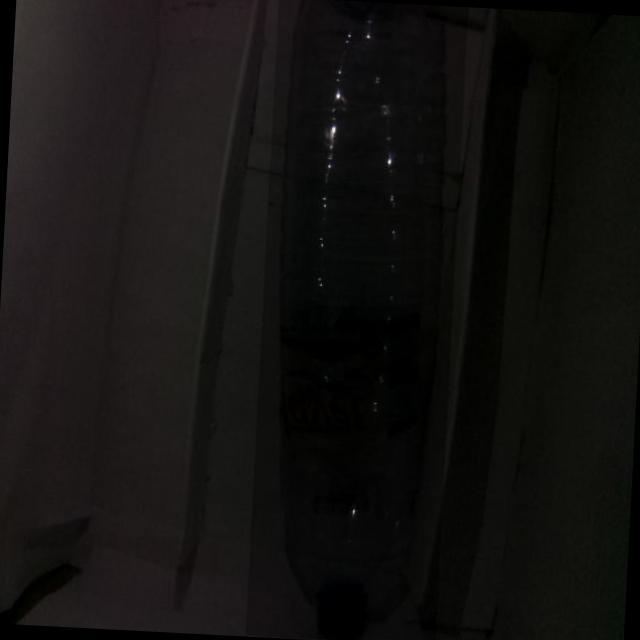good: (245, 0, 468, 640)
